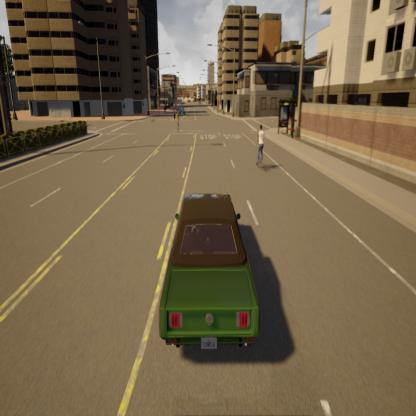Cars: (148, 184, 264, 359), (255, 120, 266, 166), (178, 105, 186, 116)
Pedestrian: (176, 109, 181, 133)
